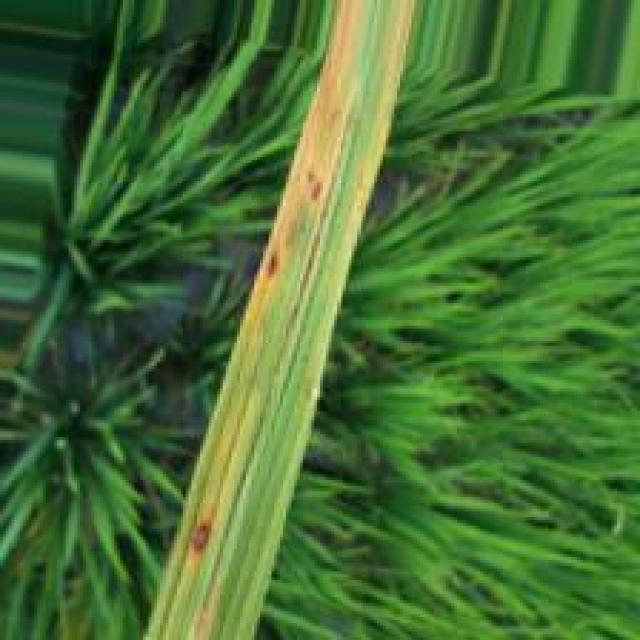Brown_Spot: (193, 509, 222, 561), (261, 245, 283, 279), (307, 172, 327, 206), (304, 168, 316, 183)
